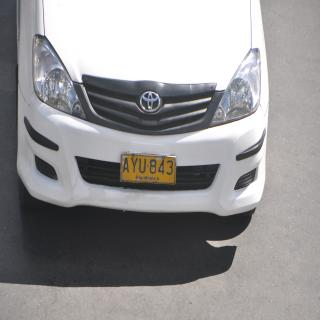license: (121, 154, 177, 185)
